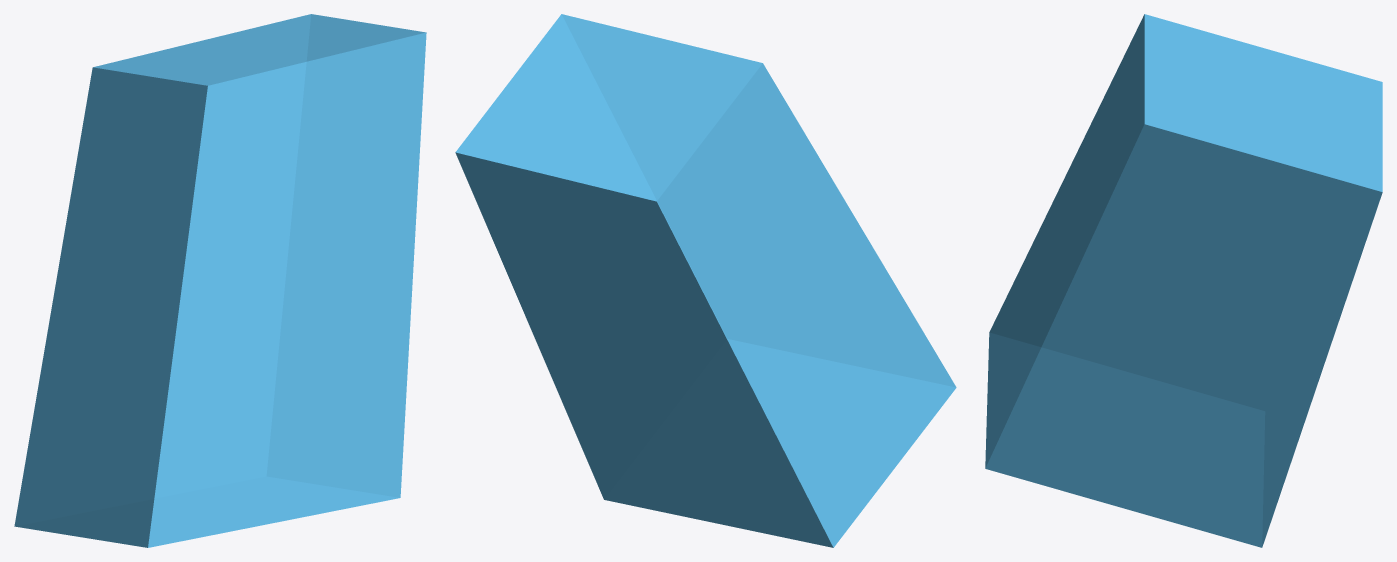
Rendered from Event_421278790_HBrechit_6.fbx.
The picture shows the model from 3 angles, left to right: view 1: azimuth 30°, elevation 25°; view 2: azimuth 150°, elevation 25°; view 3: azimuth 270°, elevation 25°; orthographic projection. The views are drawn at different scales.
Visible parts, largest first — view 1: Model; view 2: Model; view 3: Model.
Boxes of the visible parts, bbox=[...] form: Model: bbox=[14, 14, 426, 547]; Model: bbox=[455, 14, 956, 547]; Model: bbox=[985, 14, 1382, 547].
Size of the model in its own units: 0.6786 by 0.8443 by 0.6393.
